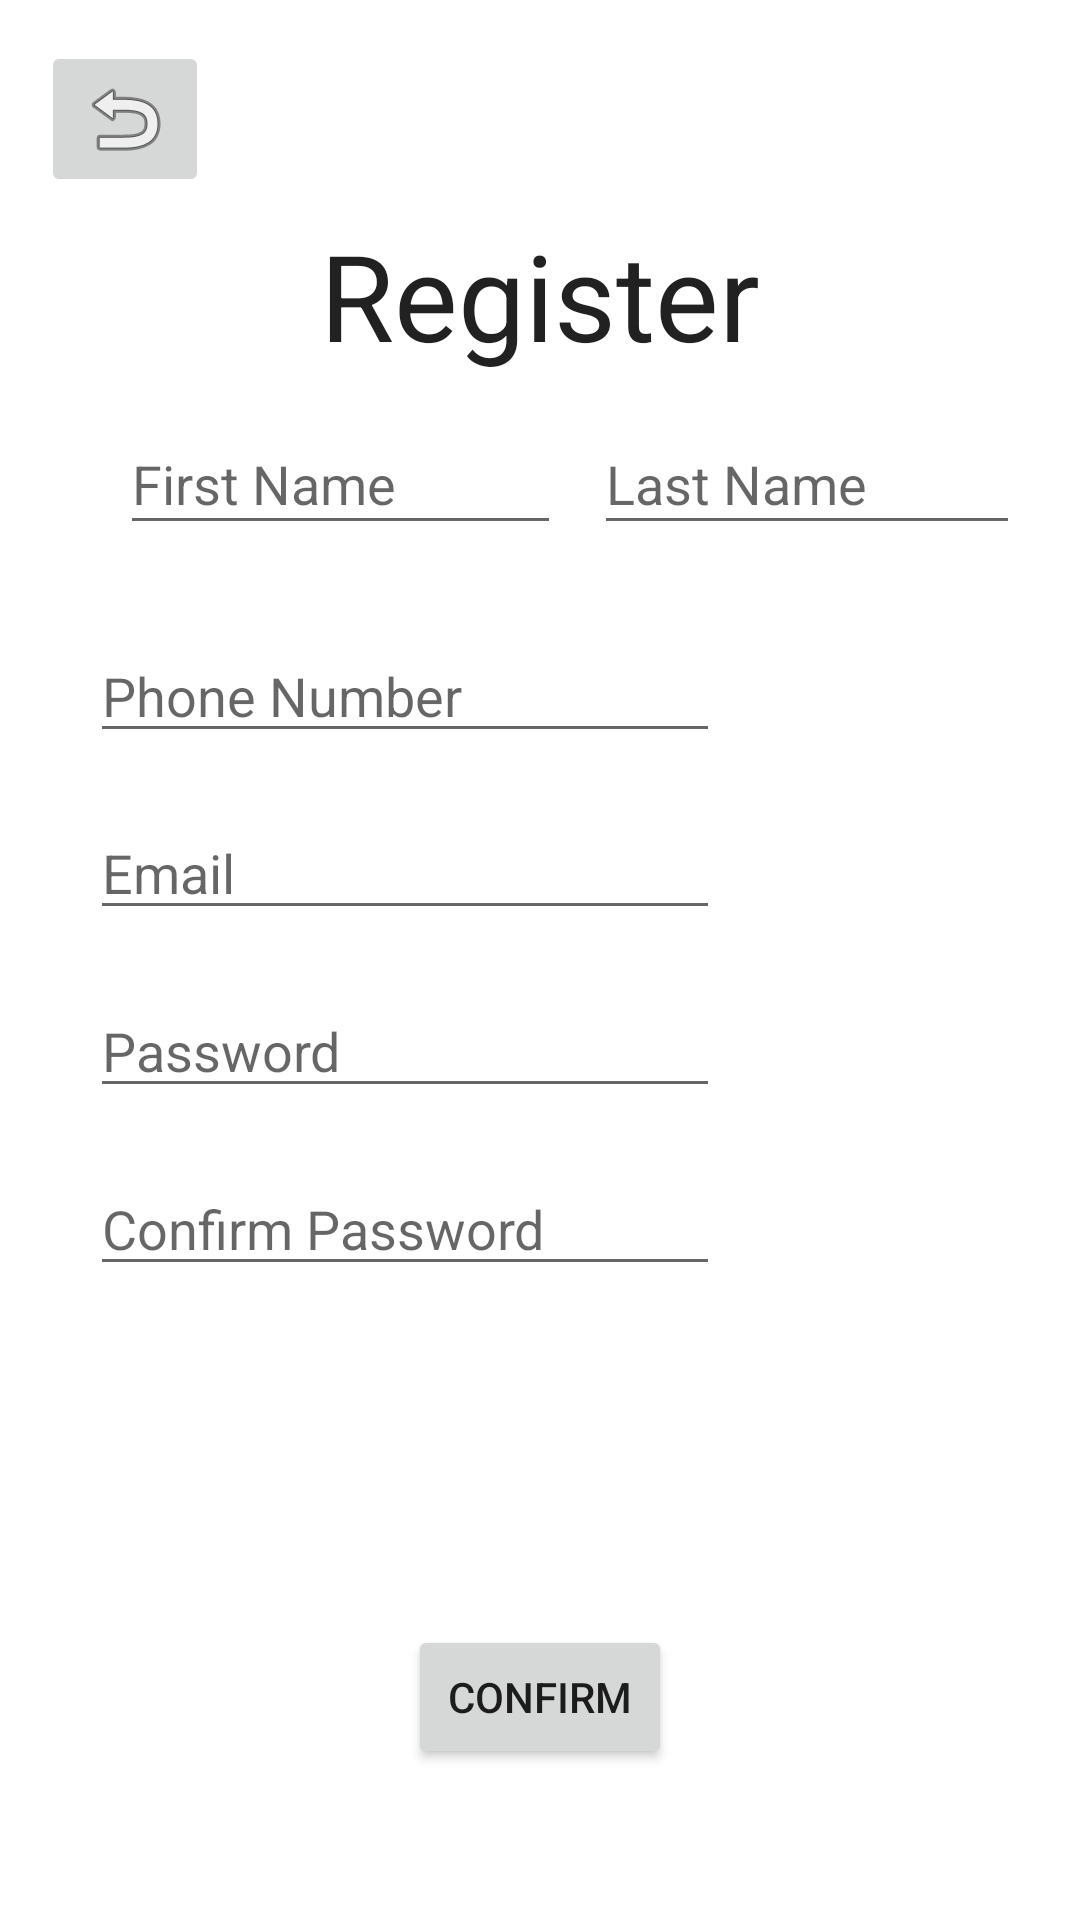

Named icons in this screenshot (1080x1920) and their centers, point (x, y):
revert: point (125, 119)
